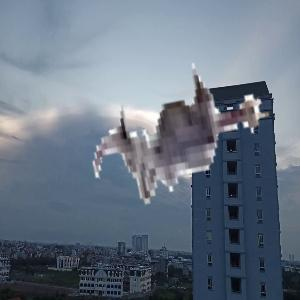drone: (78, 17, 294, 233)
